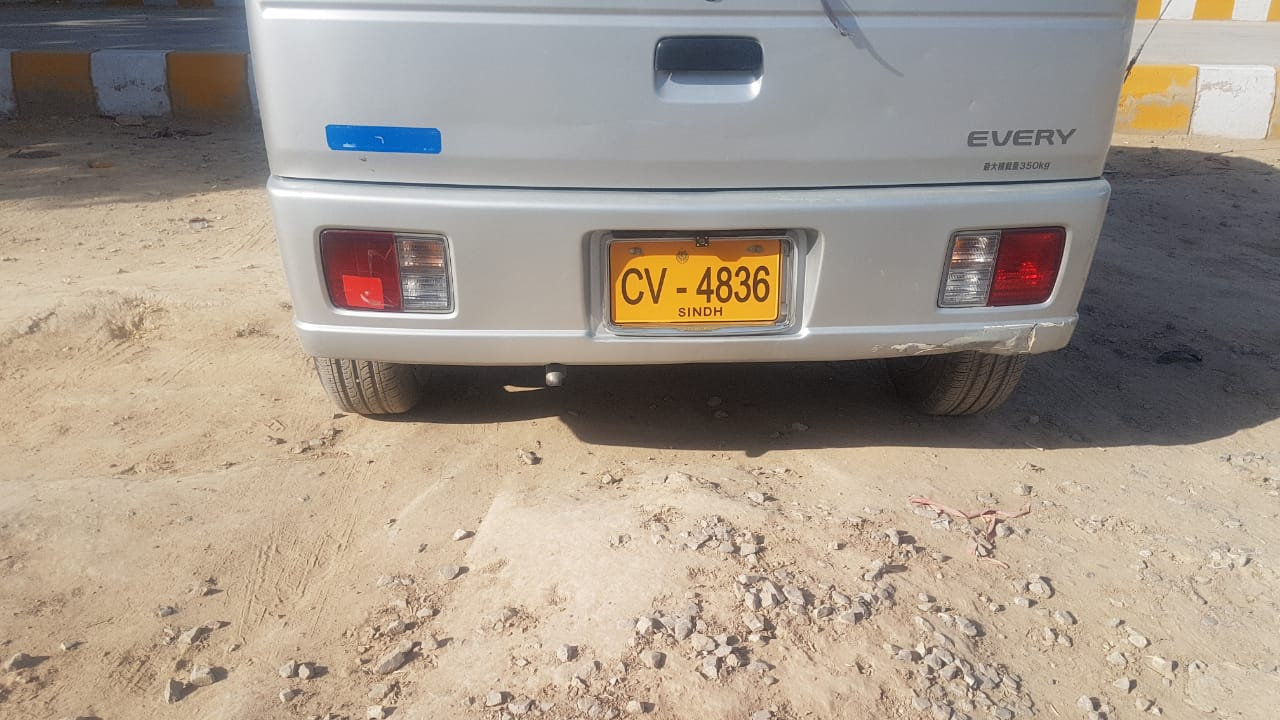license plate: (606, 239, 781, 324)
